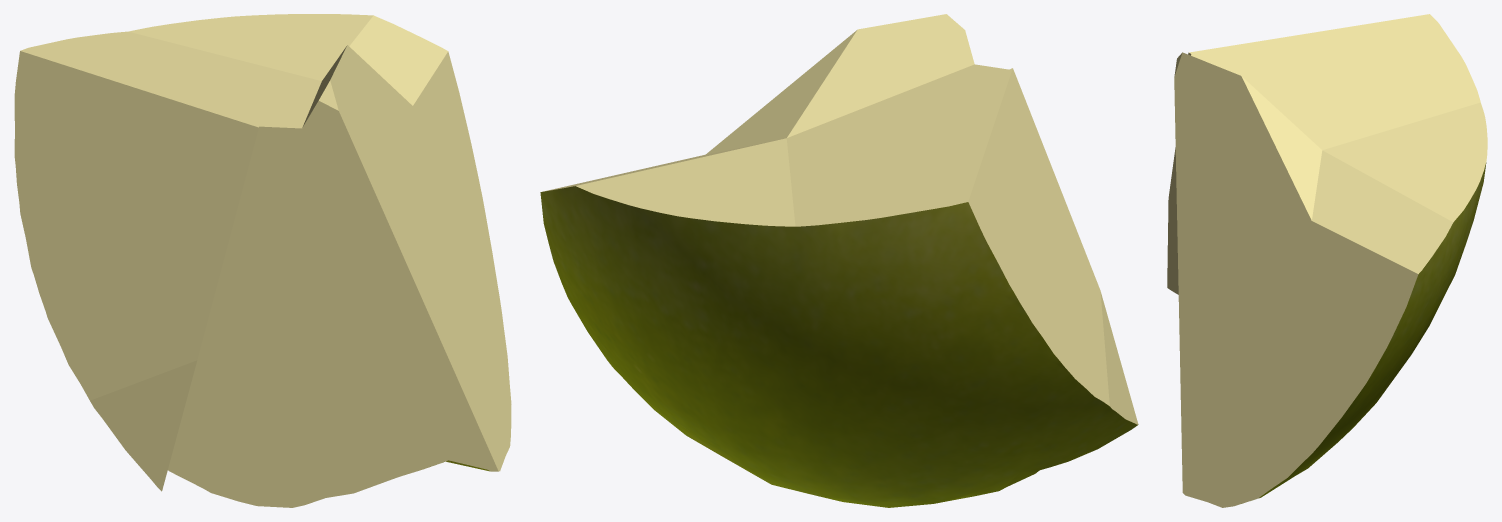
Rendered from SM_Consumable_Apple_01_003.fbx.
3 renders of one model, left to right at view 1: azimuth 30°, elevation 25°; view 2: azimuth 150°, elevation 25°; view 3: azimuth 270°, elevation 25°, orthographic. The views are drawn at different scales.
Parts seen in each view (by area): view 1: SM_Consumable_Apple_01.003; view 2: SM_Consumable_Apple_01.003; view 3: SM_Consumable_Apple_01.003.
Boxes of the visible parts, <box> form: SM_Consumable_Apple_01.003: <box>14,14,511,507</box>; SM_Consumable_Apple_01.003: <box>540,14,1138,507</box>; SM_Consumable_Apple_01.003: <box>1167,14,1487,507</box>.
Size of the model in its own units: 0.0482 by 0.0443 by 0.0337.
